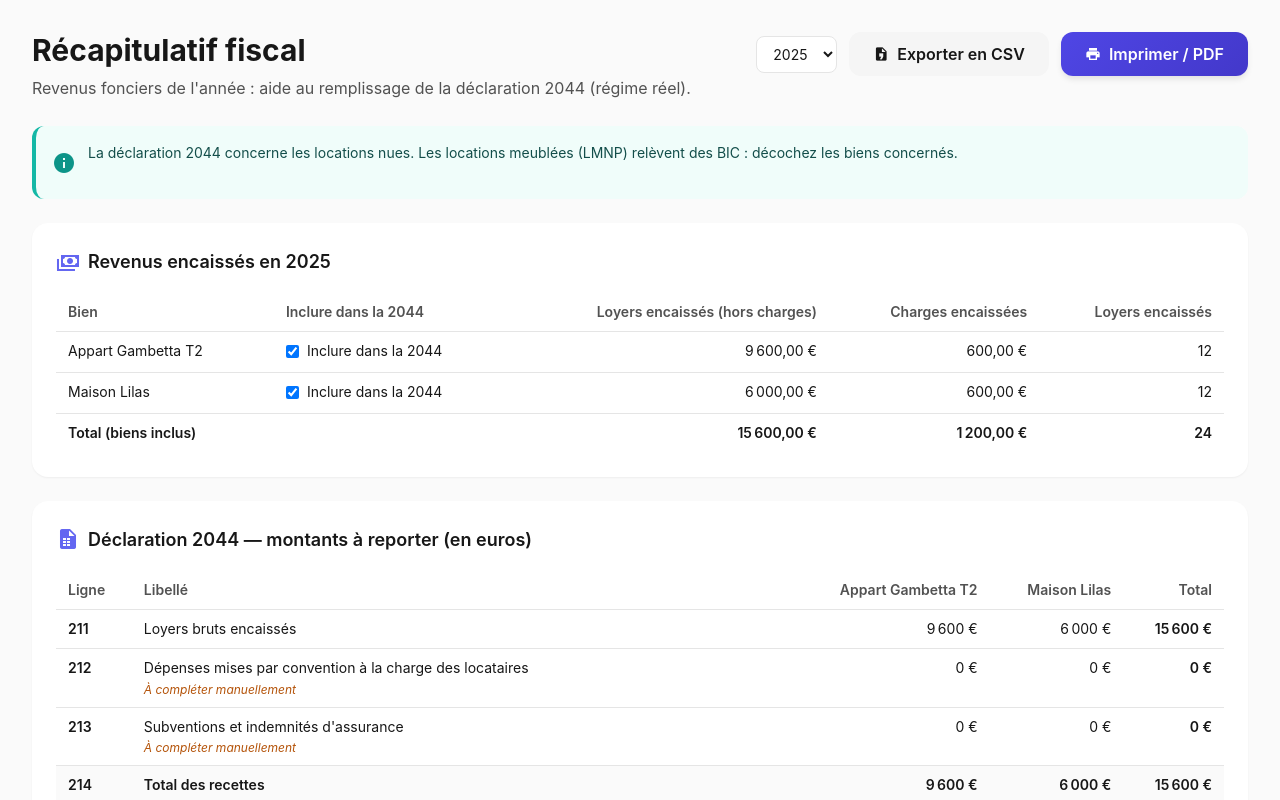
FiscalView › excludes an unchecked property and re-evaluates the micro-foncier hint
Click the checkbox with test id "fiscal-include-checkbox" in the row of "6 000,00 €". click: (292, 392)
box: [286,386,299,399]
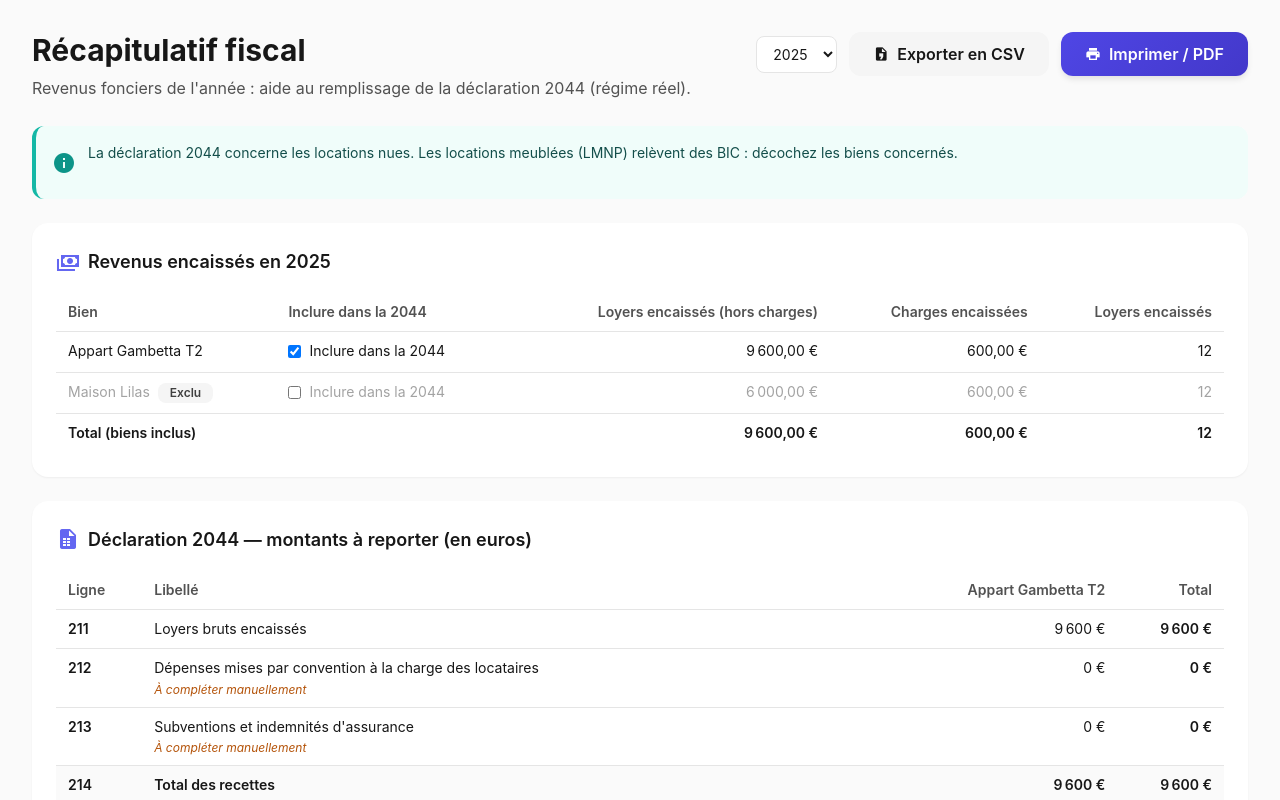
Expected: the text "Maison Lilas" is not shown
Now the text with test id "fiscal-excluded-badge" reads "Exclu", box [170,385,201,400]
